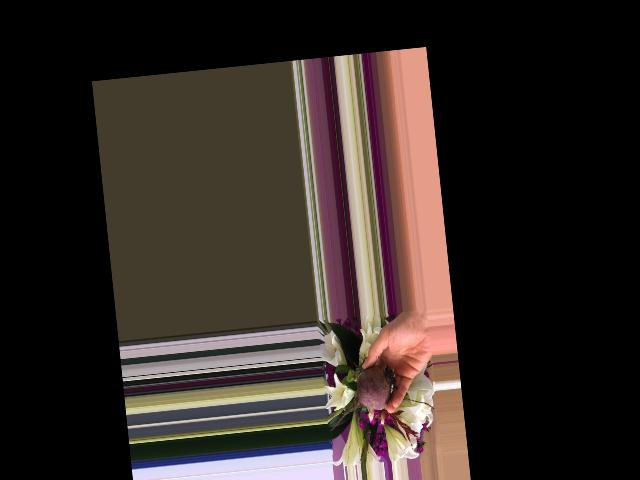beet: (324, 364, 400, 432)
